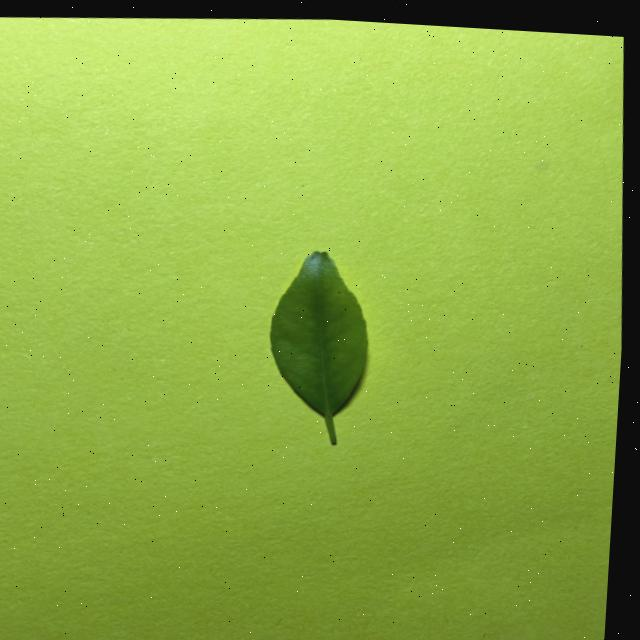greening: (270, 251, 367, 444)
